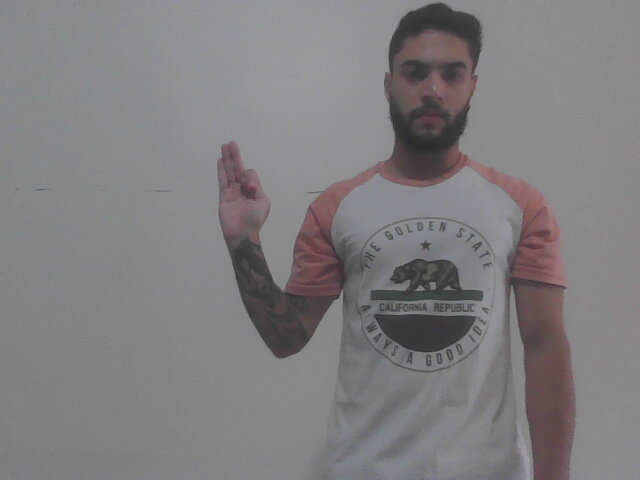t: (212, 139, 276, 242)
